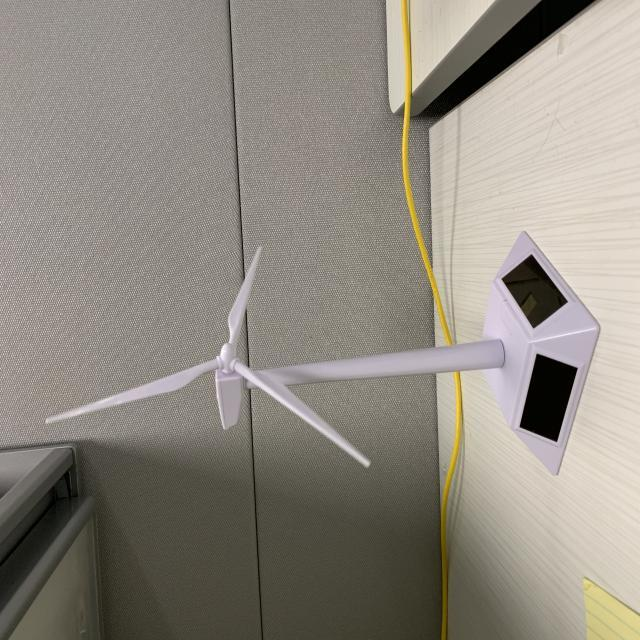solid-blade: (231, 359, 370, 467), (46, 359, 218, 423), (229, 248, 261, 344)
